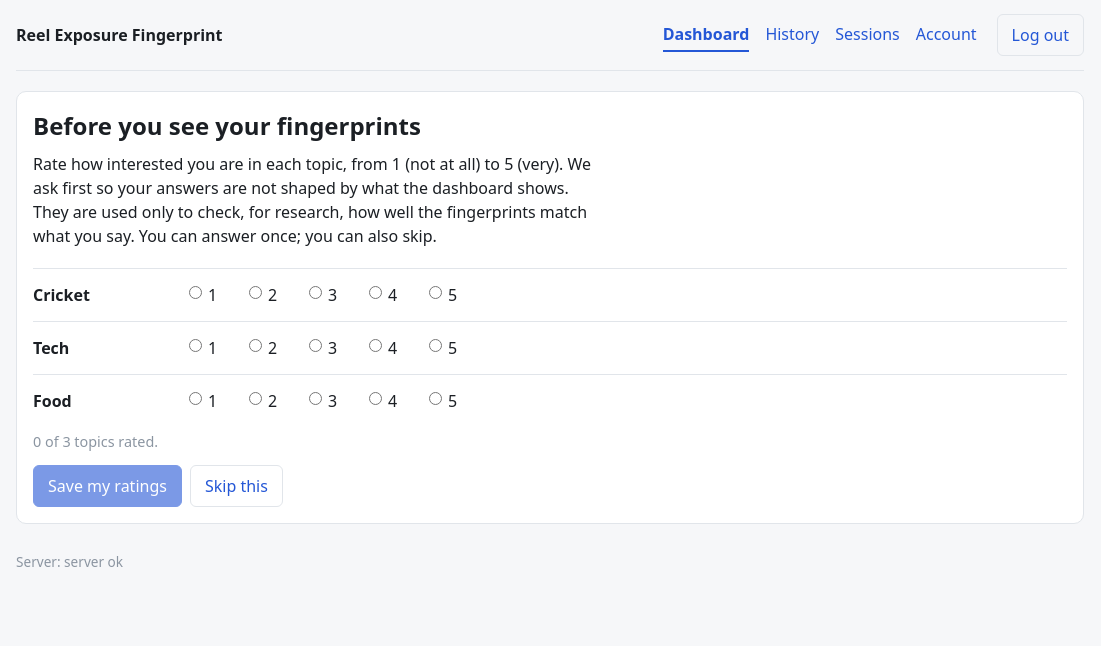
Test: self-report survey › keeps the form and says so when saving fails
Click the radio button labelled "4" in the row of "Cricket" at point(376, 292), box [369, 286, 382, 298]
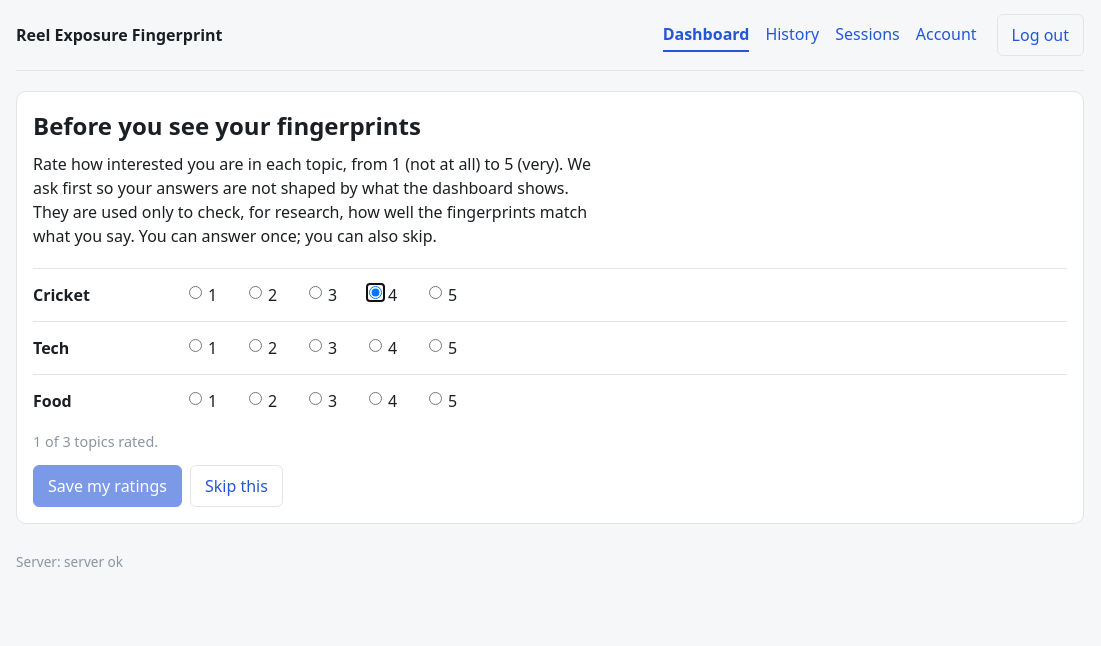
Click the radio button labelled "4" in the row of "Tech" at point(376, 345), box [369, 338, 382, 352]
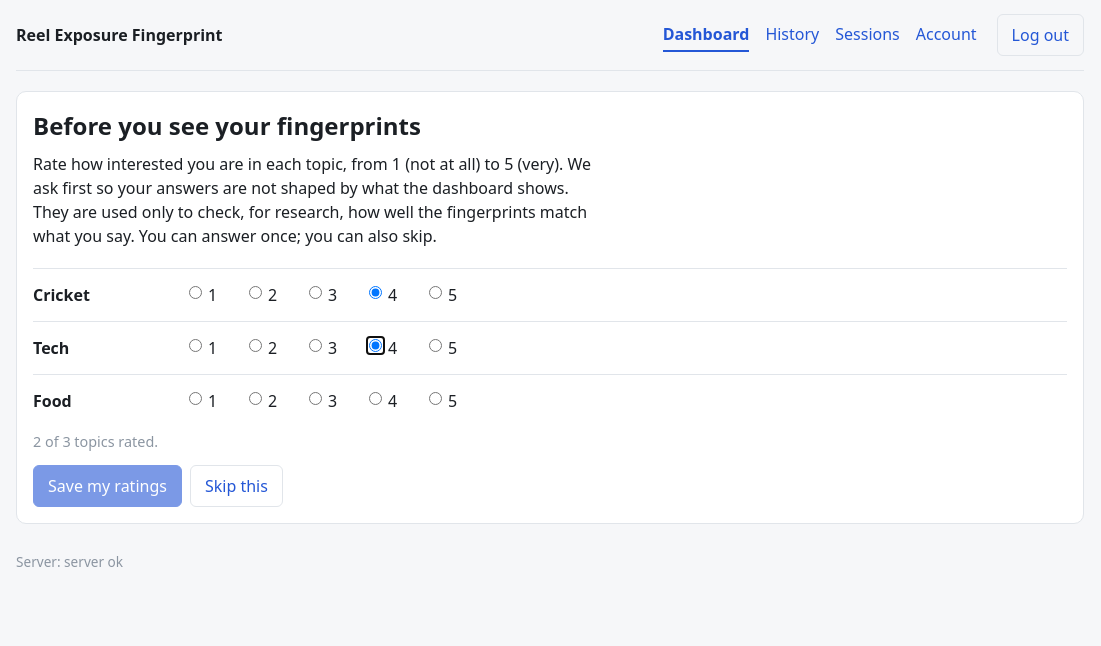
Click the radio button labelled "4" in the row of "Food" at point(376, 398), box [369, 392, 382, 404]
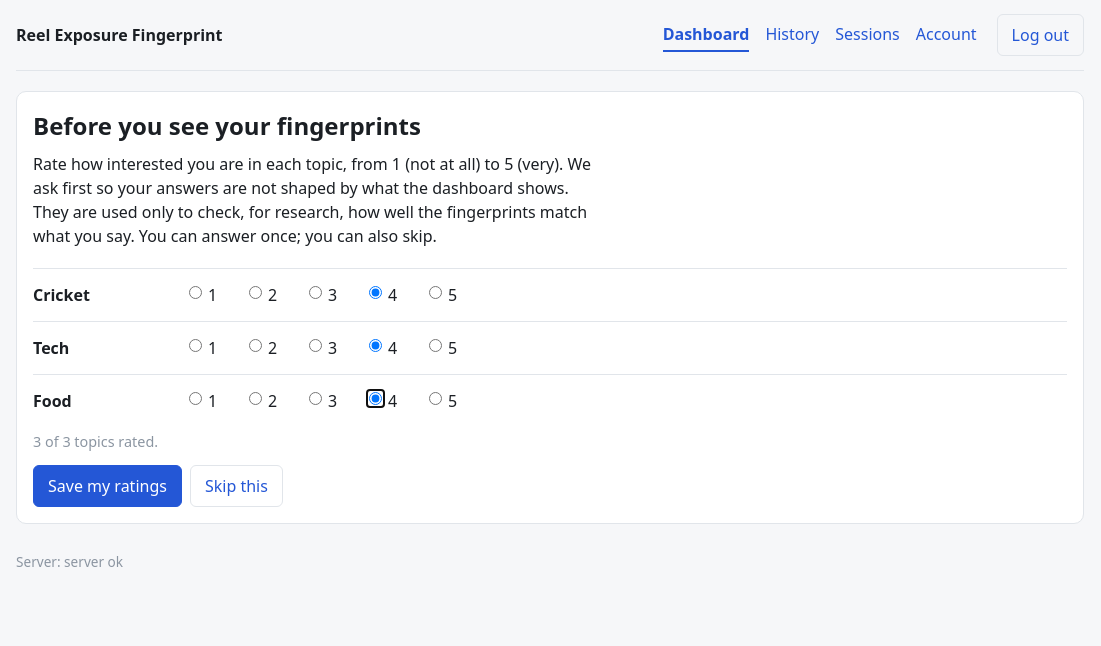
Click the button "Save my ratings" at point(107, 486), box [33, 465, 182, 507]
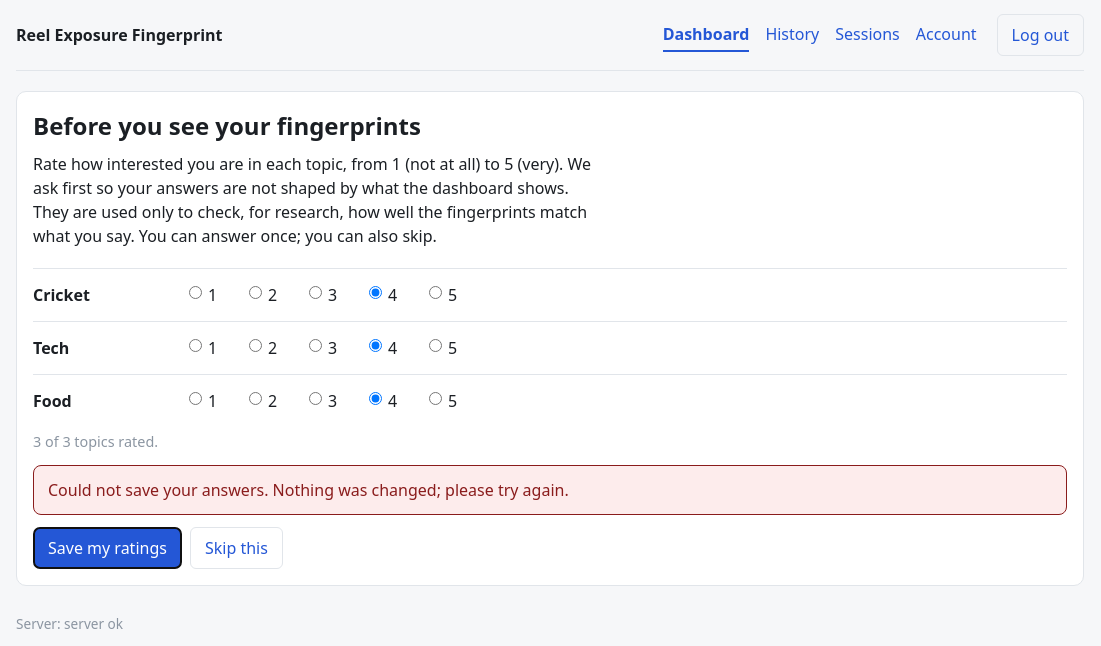
Now the button "Save my ratings" is enabled, box [33, 527, 182, 569]
Now the message shows "Could not save your answers", box [48, 479, 569, 501]
